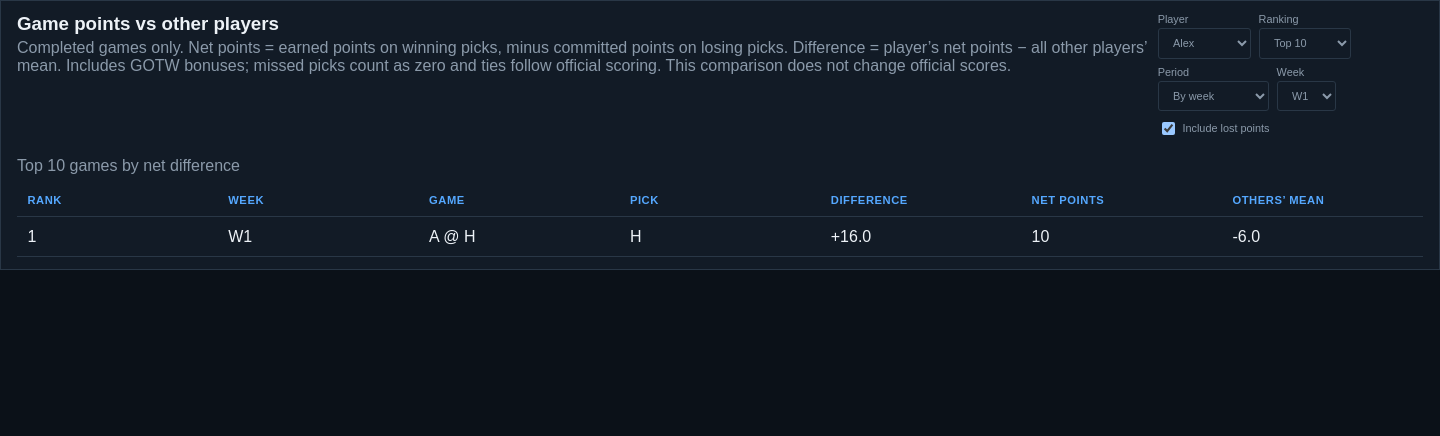
shows every player in the shared ranking and offers 25-row rankings
Click the checkbox labelled "Include lost points" at [1168, 128], box [1162, 122, 1175, 134]
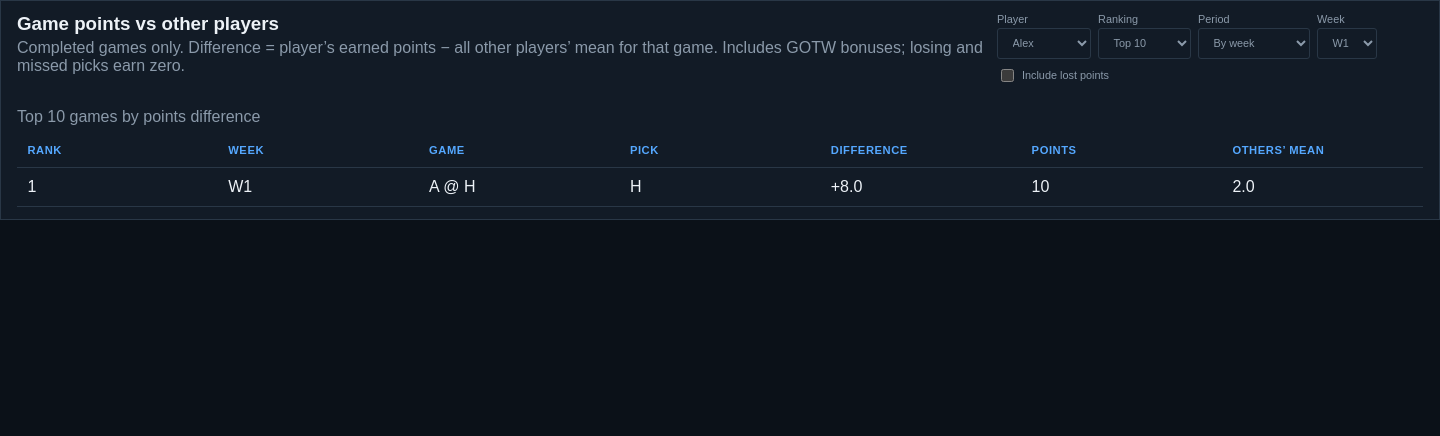
Select "All players" in the dropdown named "Game points player" at [1044, 43], box [997, 28, 1091, 59]
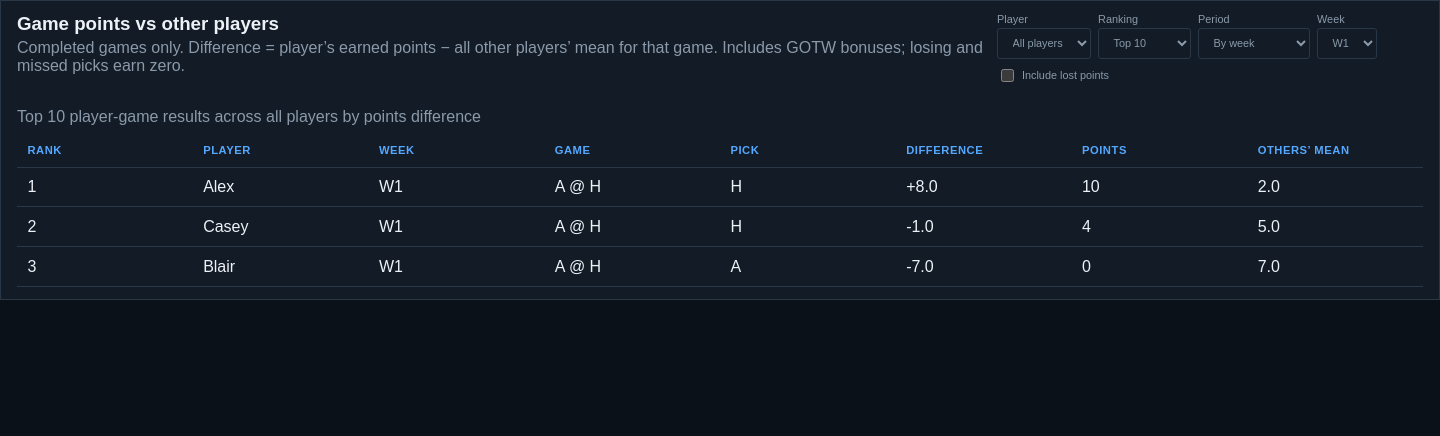
Select "Top 25" in the dropdown named "Game points ranking" at [1144, 43], box [1098, 28, 1191, 59]
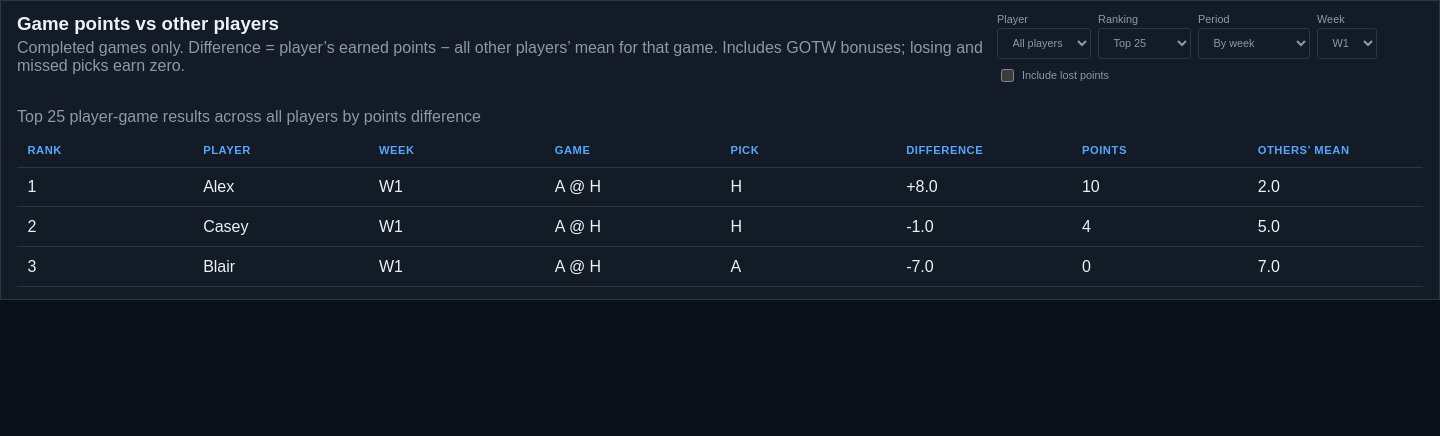
Check: the table "Top 25 player-game results across all players by points difference" is shown, box [17, 100, 1423, 287]
Select "Bottom 25" in the dropdown named "Game points ranking" at [1144, 43], box [1098, 28, 1191, 59]
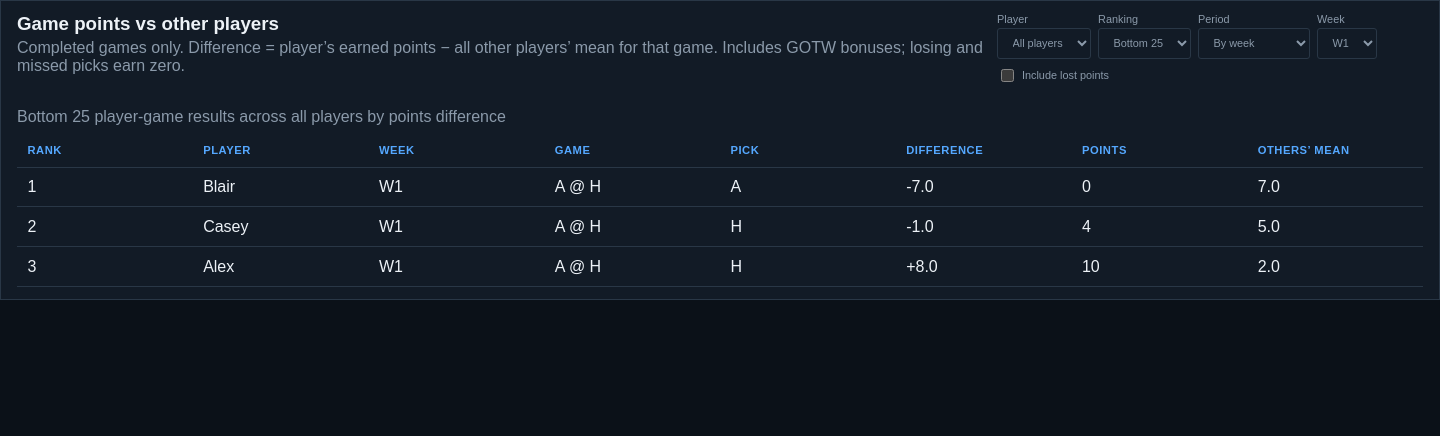
Select "Whole season" in the dropdown named "Game points period" at [1254, 43], box [1198, 28, 1310, 59]
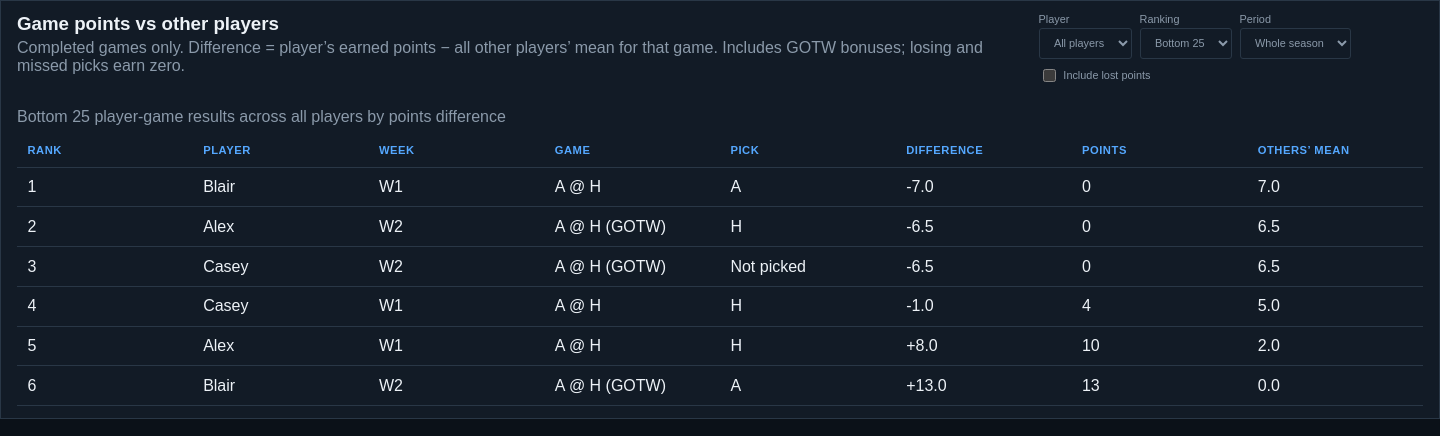
Check: the table "Bottom 25 player-game results across all players by points difference" shows "Alex", box [203, 218, 234, 235]
Check: the table "Bottom 25 player-game results across all players by points difference" shows "Blair", box [203, 178, 235, 195]
Check: the number of rows is 7
